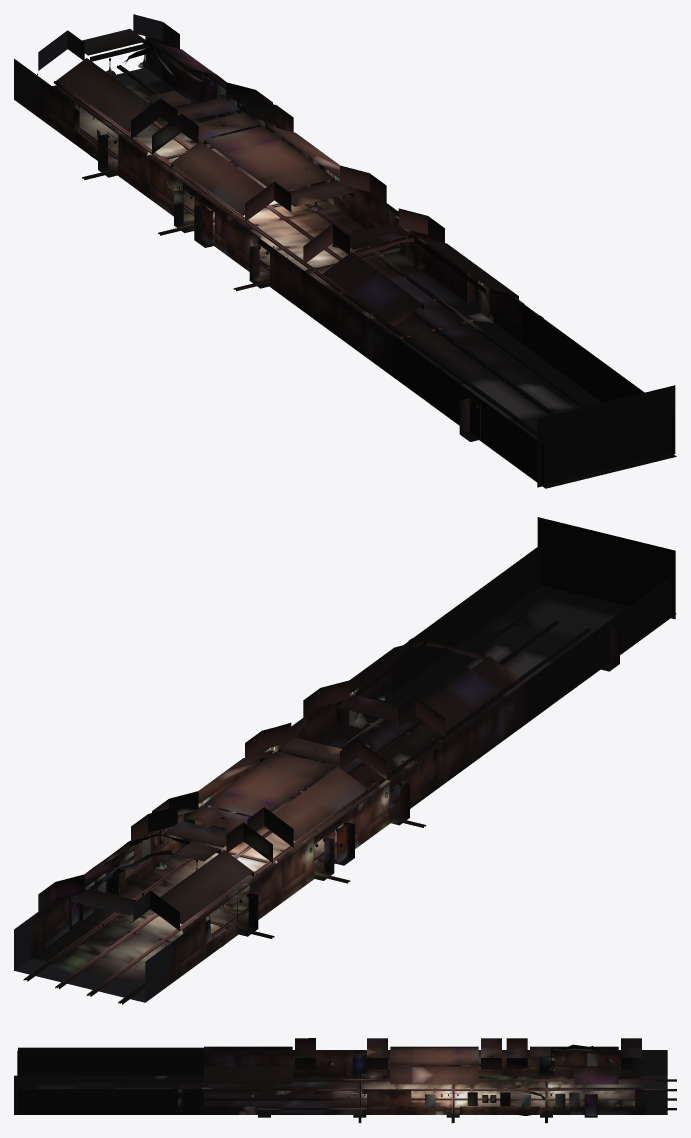
Rendered from shooting_range.dae.
3 renders of one model, top to bottom at view 1: azimuth 30°, elevation 25°; view 2: azimuth 150°, elevation 25°; view 3: azimuth 270°, elevation 25°, orthographic. The views are drawn at different scales.
Visible parts, largest first — view 1: polySurface551, polySurface552; view 2: polySurface551, polySurface552; view 3: polySurface551, polySurface552.
Boxes of the visible parts, x1,y1,x2,y2 form: polySurface551: (14, 14, 676, 488); polySurface552: (54, 65, 586, 435); polySurface551: (14, 517, 676, 1002); polySurface552: (23, 612, 590, 1004); polySurface551: (14, 1038, 667, 1117); polySurface552: (61, 1072, 676, 1123).
Size of the model in its own units: 1440 by 572 by 7108.
